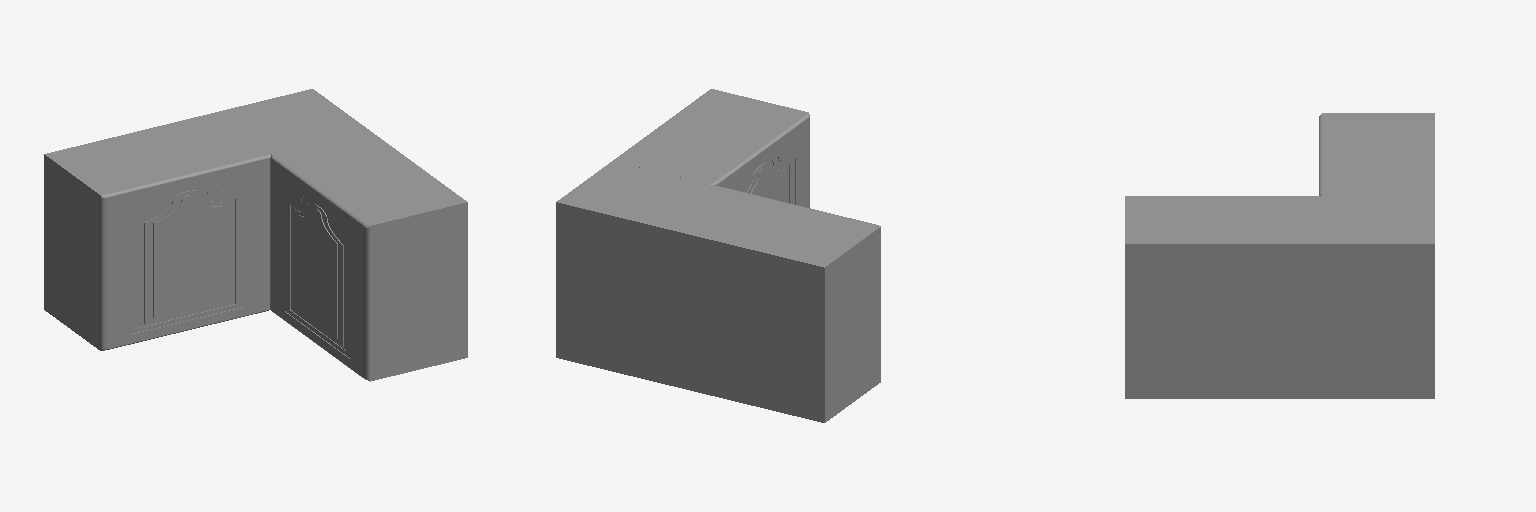
File: corner-base-unit-1000.obj
The picture shows the model from 3 angles: view 1: azimuth 30°, elevation 25°; view 2: azimuth 150°, elevation 25°; view 3: azimuth 270°, elevation 25°; orthographic projection.
Visible parts, largest first — view 1: Cube.003_Cube.008, Cube.004_Cube.000, Cube.005, Cube_Cube.002, Cube.001, Cube.002_Cube.004, Cube.006; view 2: Cube_Cube.002, Cube.006, Cube.002_Cube.004, Cube.001, Cube.004_Cube.000; view 3: Cube.001, Cube.006, Cube_Cube.002, Cube.005.
Boxes of the visible parts, x1=… form: Cube.003_Cube.008: x1=100, y1=154, x2=270, y2=350; Cube.004_Cube.000: x1=270, y1=154, x2=369, y2=380; Cube.005: x1=370, y1=201, x2=467, y2=381; Cube_Cube.002: x1=47, y1=113, x2=270, y2=194; Cube.001: x1=272, y1=130, x2=465, y2=224; Cube.002_Cube.004: x1=44, y1=154, x2=102, y2=349; Cube.006: x1=215, y1=89, x2=368, y2=153; Cube_Cube.002: x1=654, y1=185, x2=877, y2=422; Cube.006: x1=556, y1=161, x2=708, y2=381; Cube.002_Cube.004: x1=822, y1=226, x2=880, y2=422; Cube.001: x1=613, y1=90, x2=806, y2=184; Cube.004_Cube.000: x1=710, y1=113, x2=809, y2=207; Cube.001: x1=1128, y1=196, x2=1321, y2=398; Cube.006: x1=1322, y1=196, x2=1434, y2=398; Cube_Cube.002: x1=1322, y1=114, x2=1434, y2=195; Cube.005: x1=1125, y1=196, x2=1127, y2=398.
Size of the model in its own units: 314 by 174 by 314.